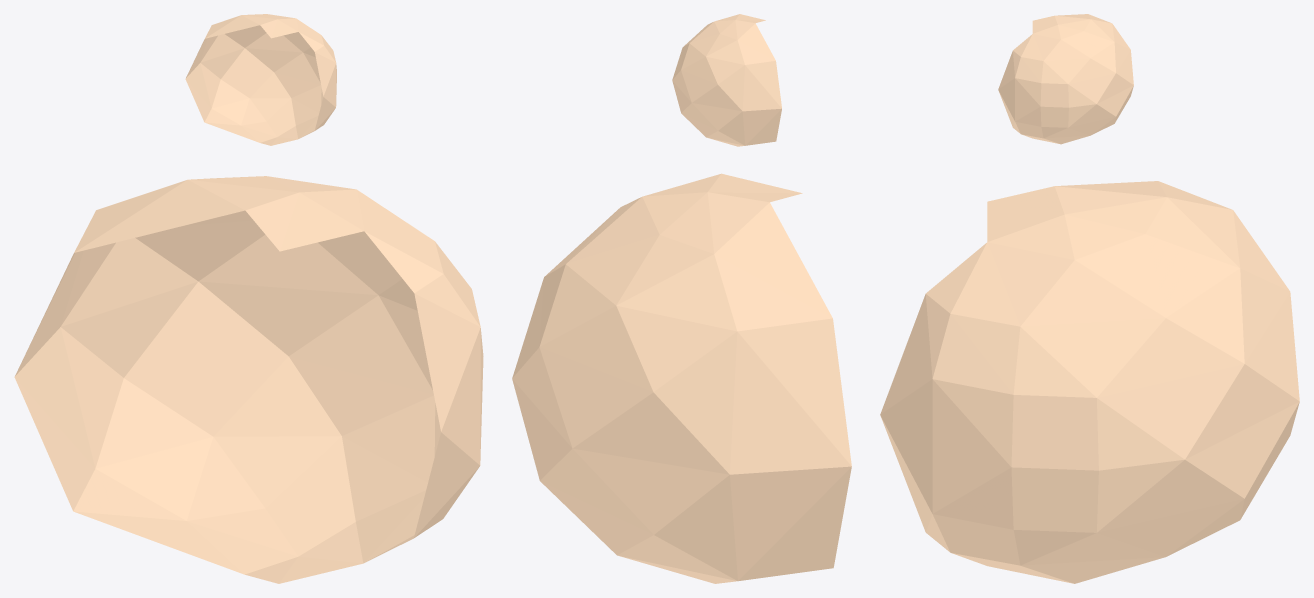
File: hair34.glb
3 views of the same model, side by side, from view 1: azimuth 30°, elevation 25°; view 2: azimuth 150°, elevation 25°; view 3: azimuth 270°, elevation 25° (orthographic). The views are drawn at different scales.
Parts seen in each view (by area): view 1: tomodachi-2026-03-21-14-50-36-226.008, tomodachi-2026-03-21-14-50-36-226.001; view 2: tomodachi-2026-03-21-14-50-36-226.008, tomodachi-2026-03-21-14-50-36-226.001; view 3: tomodachi-2026-03-21-14-50-36-226.008, tomodachi-2026-03-21-14-50-36-226.001.
Boxes of the visible parts, x1,y1,x2,y2 form: tomodachi-2026-03-21-14-50-36-226.008: (14,176,483,583); tomodachi-2026-03-21-14-50-36-226.001: (185,14,336,145); tomodachi-2026-03-21-14-50-36-226.008: (512,173,851,583); tomodachi-2026-03-21-14-50-36-226.001: (672,14,781,146); tomodachi-2026-03-21-14-50-36-226.008: (880,181,1299,583); tomodachi-2026-03-21-14-50-36-226.001: (998,14,1133,144).
Size of the model in its own units: 1.14 by 1.56 by 1.11.
2 materials, 2 textured.
